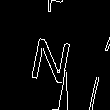N_N: (30, 27, 80, 83)
